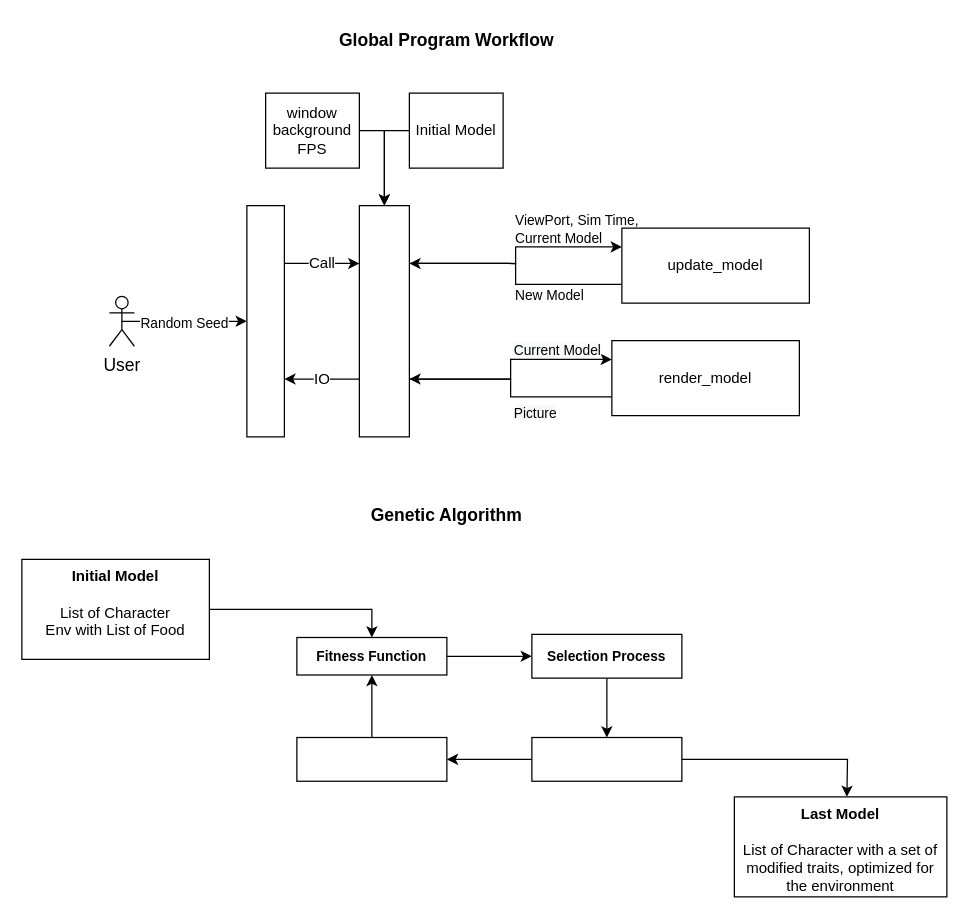
Image size: 969x919. Some labels were removed from this diagram. Each missing label, with the centre of its shape:
Env Modification (If any): [371,758]
Gloss Simulate: [383,320]
Main: [265,320]
Reproduction & Mutation: [606,758]
